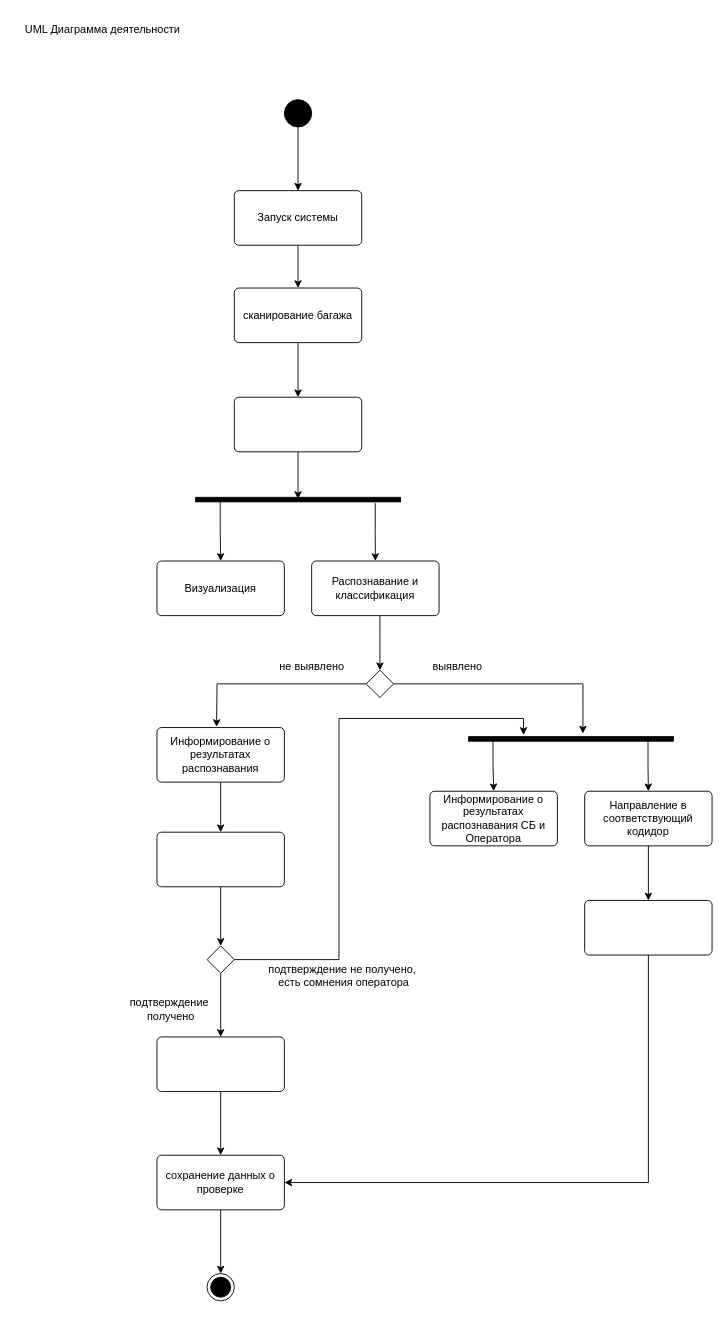
This 728x1317 diagram has some shape labels left out. Each missing label, with the centre of its shape:
"направление в зеленый коридор" belongs at point (220, 1064).
"Обработка видеопотока, кадрирование" belongs at point (297, 424).
"ожидание подтверждения оператором" belongs at point (220, 859).
"проверка багажа СБ" belongs at point (648, 927).
